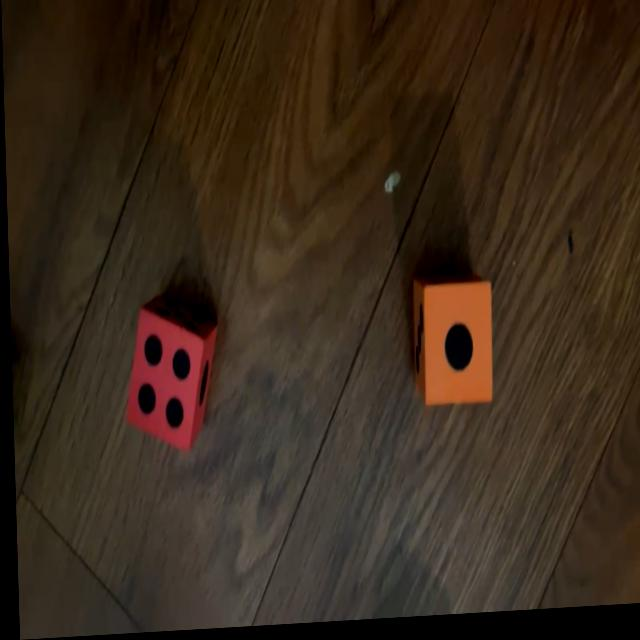cube: (120, 297, 220, 456)
